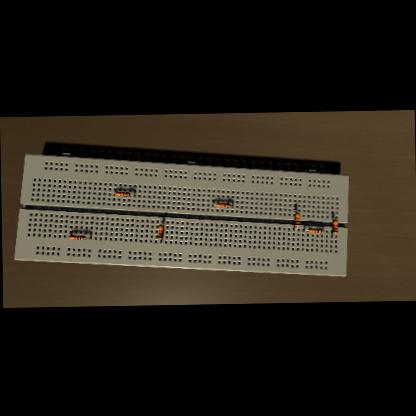breadboard: (11, 147, 349, 282)
resistor: (293, 211, 299, 226), (67, 234, 84, 239), (330, 219, 336, 233), (113, 191, 128, 196), (308, 228, 322, 233), (157, 224, 162, 238), (216, 203, 228, 208)
wire: (330, 232, 334, 236), (83, 236, 90, 238), (292, 226, 296, 229), (158, 238, 160, 242), (330, 217, 334, 219), (293, 210, 297, 212), (302, 229, 308, 230), (160, 221, 162, 224), (128, 194, 134, 195), (229, 205, 231, 206), (322, 230, 323, 231), (112, 192, 113, 193), (211, 204, 214, 204)
